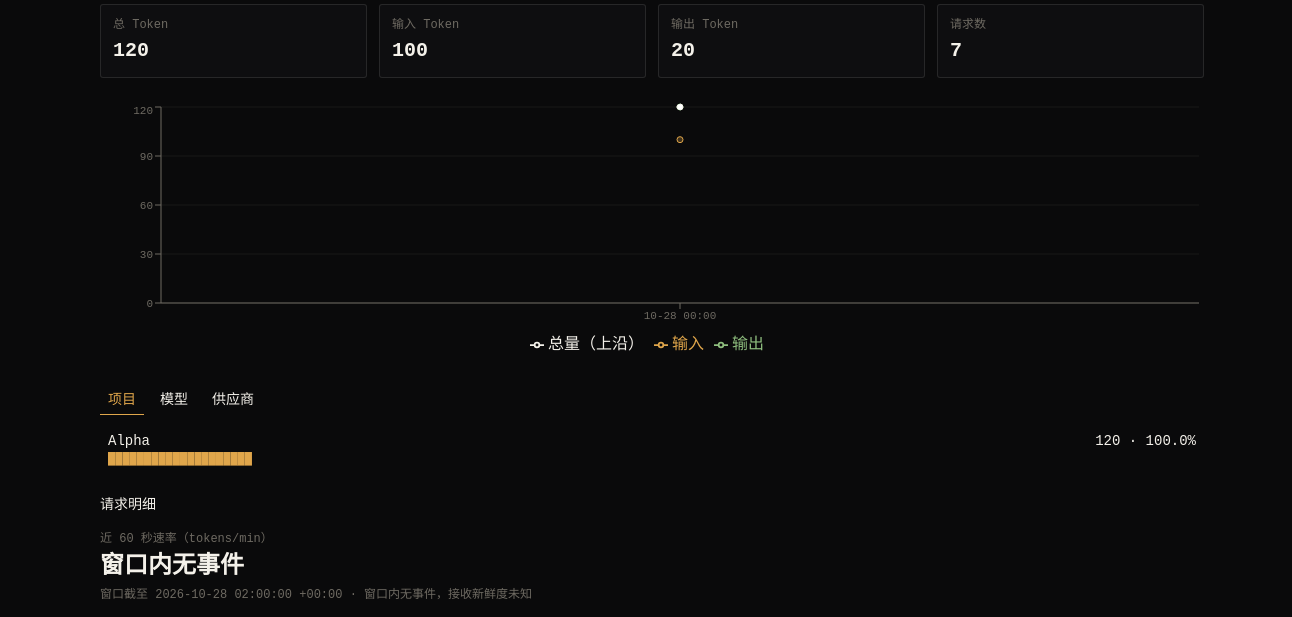
overview page › clicking a model ranking row toggles only the Model filter
The image size is (1292, 617).
(page scrolled)
expect the list item with test id "metric-total" is shown: met, box [100,4,367,78]
Click the tab "模型".
click(174, 400)  # box [152,386,196,415]
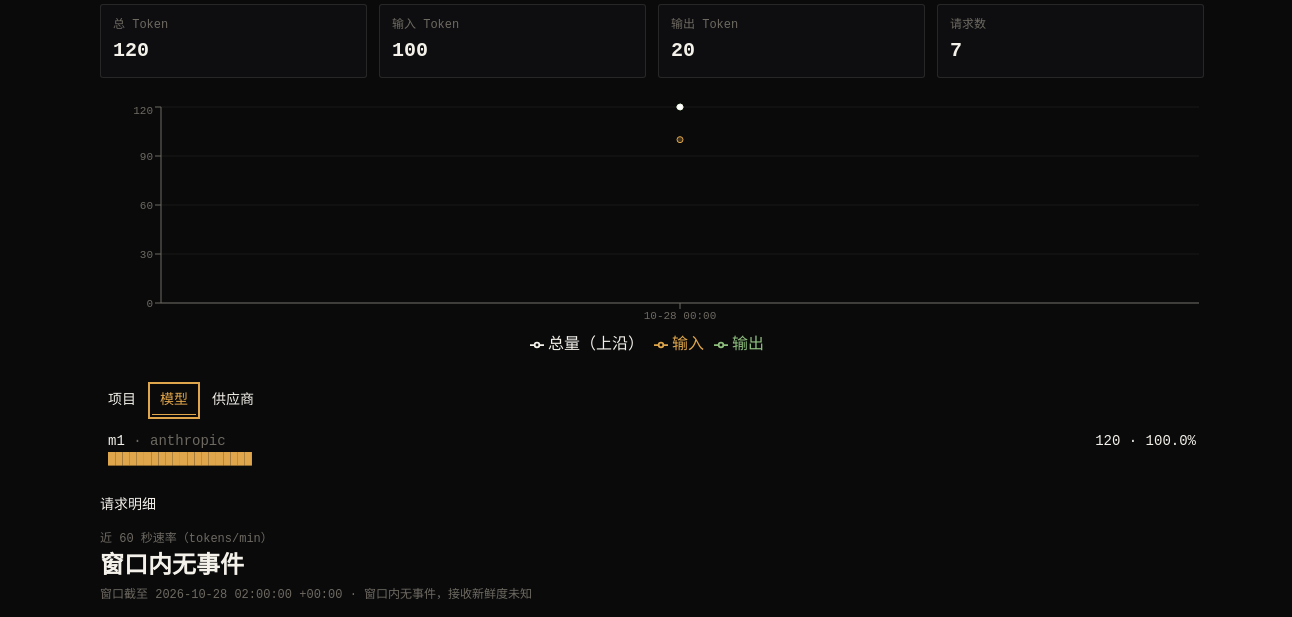
Click the button "m1 · anthropic 120 · 100.0% ████████████████████".
click(188, 441)  # box [100,427,1204,471]
(page scrolled)
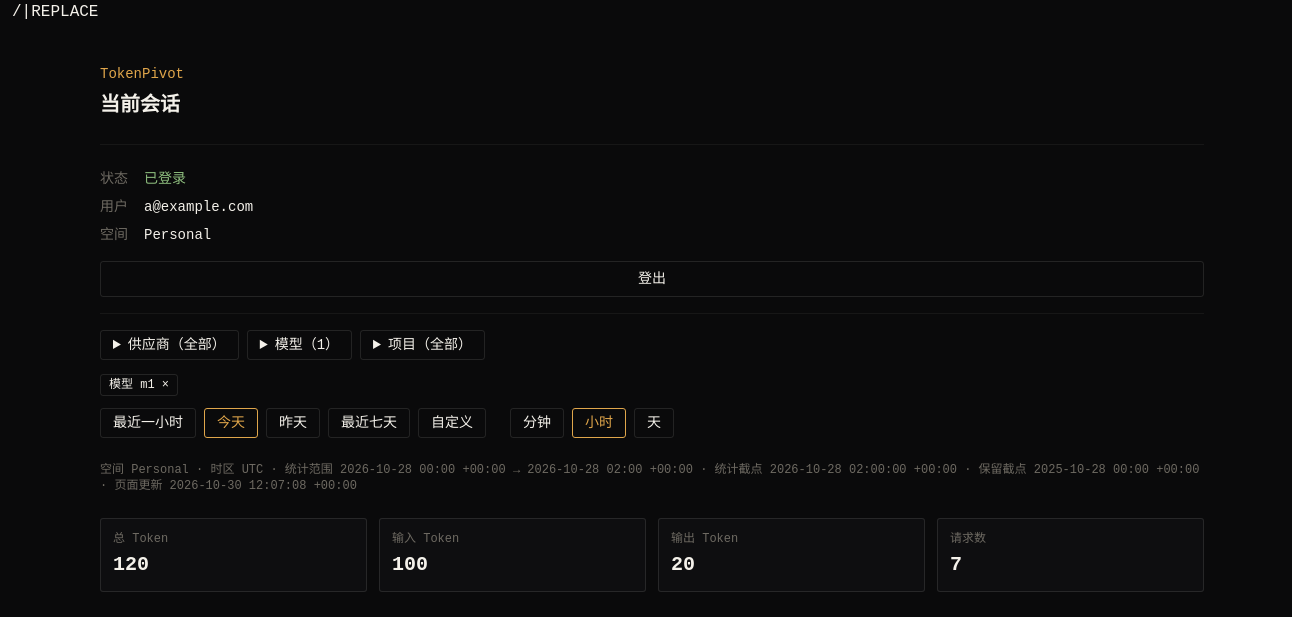
expect the button with aria-label "移除 模型 m1" is shown: met, box [100,374,178,396]
